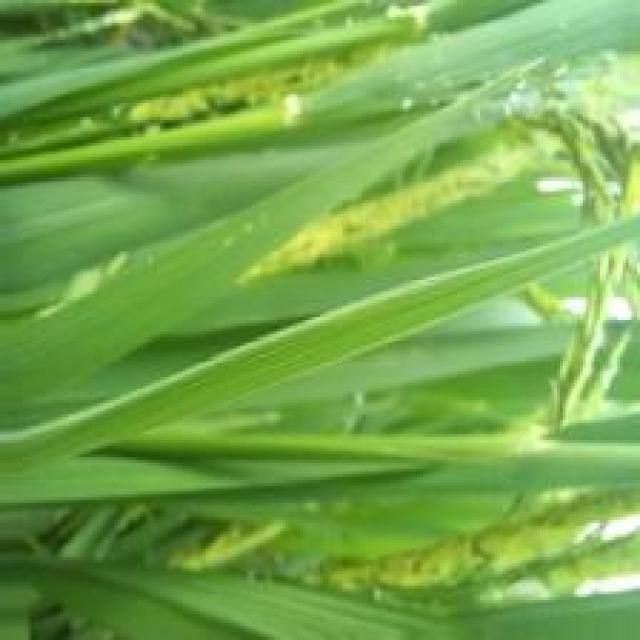HealthyLeaf: (0, 71, 521, 413), (0, 220, 635, 481)
